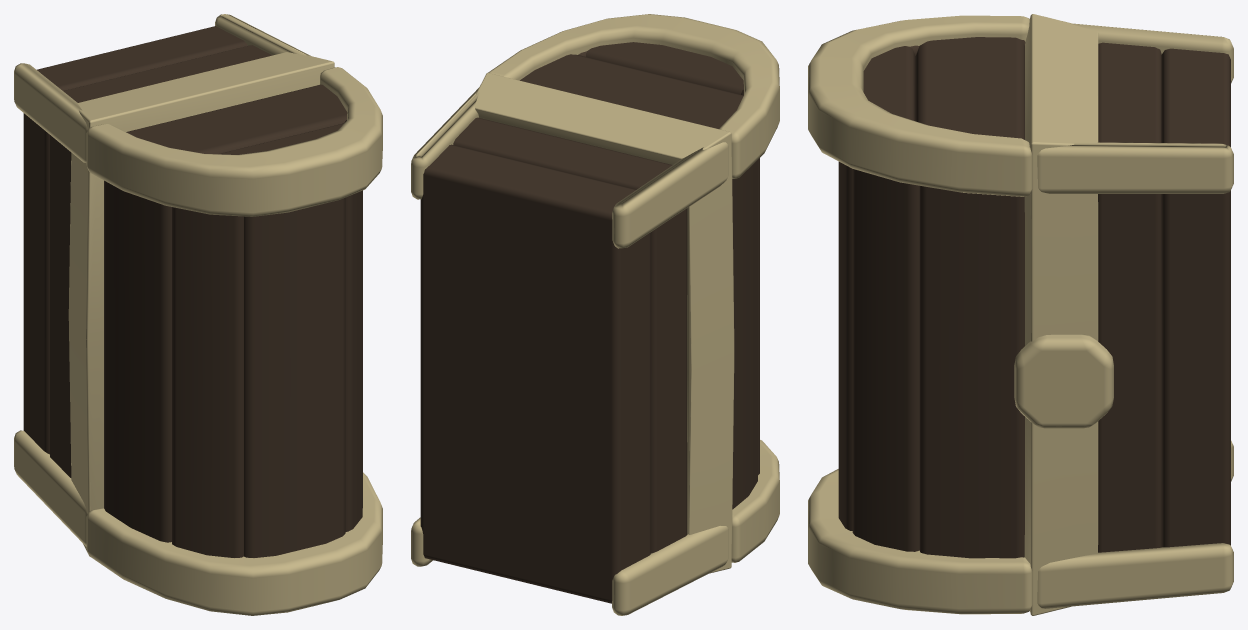
File: Chest 1.fbx
The picture shows the model from 3 angles, left to right: view 1: azimuth 30°, elevation 25°; view 2: azimuth 150°, elevation 25°; view 3: azimuth 270°, elevation 25°; orthographic projection. The views are drawn at different scales.
Visible parts, largest first — view 1: Plane.003, Plane.002, Plane, Plane.004, Plane.001; view 2: Plane, Plane.004, Plane.003, Plane.002, Plane.001; view 3: Plane.003, Plane, Plane.002, Plane.004, Plane.001, Plane.005.
Part boxes in pixels (x1=…): Plane.003: x1=104, y1=84, x2=362, y2=557; Plane.002: x1=86, y1=67, x2=382, y2=615; Plane: x1=23, y1=26, x2=272, y2=477; Plane.004: x1=68, y1=52, x2=334, y2=556; Plane.001: x1=14, y1=14, x2=310, y2=546; Plane: x1=420, y1=117, x2=687, y2=603; Plane.004: x1=474, y1=73, x2=734, y2=573; Plane.003: x1=520, y1=42, x2=759, y2=509; Plane.002: x1=488, y1=14, x2=779, y2=562; Plane.001: x1=411, y1=88, x2=728, y2=615; Plane.003: x1=838, y1=37, x2=1025, y2=558; Plane: x1=1098, y1=42, x2=1230, y2=552; Plane.002: x1=808, y1=15, x2=1032, y2=614; Plane.004: x1=1024, y1=14, x2=1098, y2=615; Plane.001: x1=1037, y1=23, x2=1233, y2=608; Plane.005: x1=1014, y1=334, x2=1113, y2=428.
Size of the model in its own units: 133 by 216 by 171.
